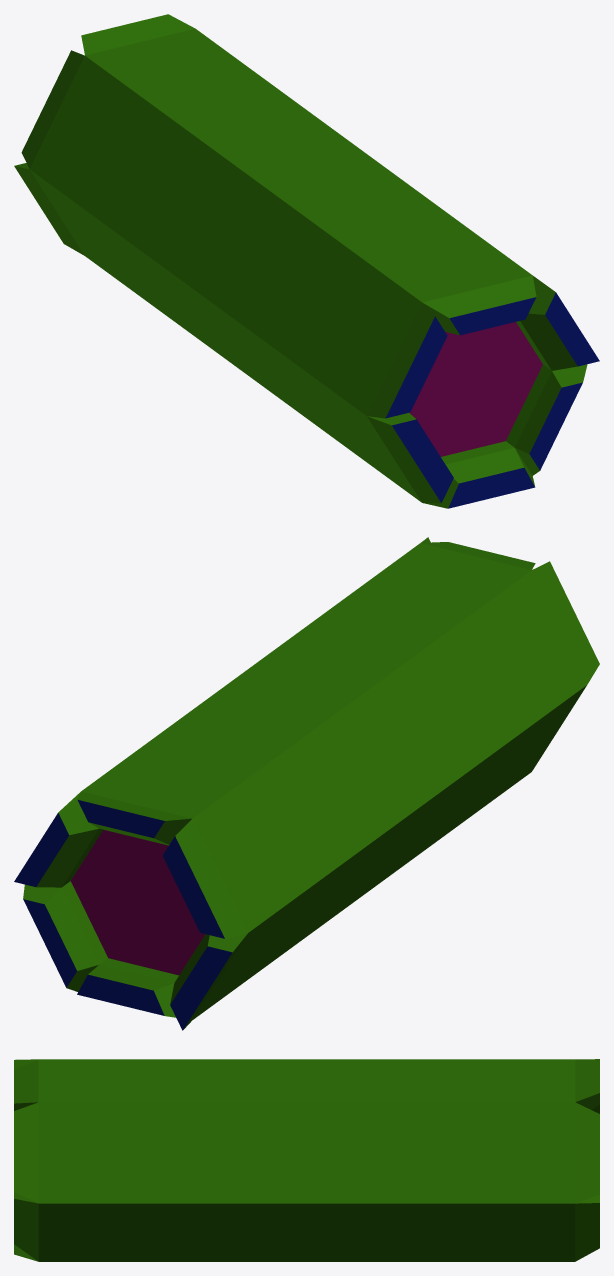
Rendered from MESH_Log.fbx.
3 renders of one model, top to bottom at view 1: azimuth 30°, elevation 25°; view 2: azimuth 150°, elevation 25°; view 3: azimuth 270°, elevation 25°, orthographic. The views are drawn at different scales.
Visible parts, largest first — view 1: MESH_Log; view 2: MESH_Log; view 3: MESH_Log.
Boxes of the visible parts, <box> form: MESH_Log: <box>14,14,599,508</box>; MESH_Log: <box>14,537,599,1030</box>; MESH_Log: <box>14,1059,599,1261</box>.
Bounding box in the file's own units: 0.2052 × 0.1829 × 0.591.
